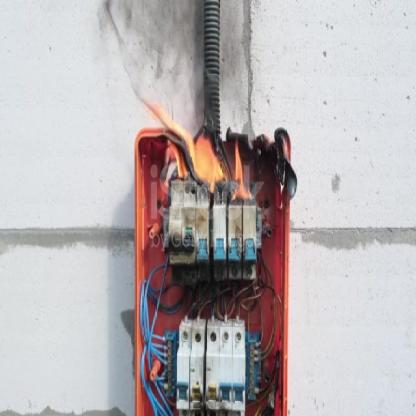fire: (138, 97, 258, 206)
smoke: (101, 0, 277, 127)
